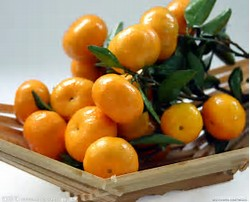orange: (61, 103, 114, 161), (92, 70, 148, 121), (83, 133, 140, 178), (57, 12, 106, 61), (107, 26, 162, 69), (140, 4, 178, 60), (46, 73, 97, 114), (20, 109, 64, 156), (204, 90, 247, 138), (157, 101, 202, 140), (10, 79, 52, 119), (166, 1, 202, 43), (118, 107, 155, 138), (65, 56, 101, 80)
